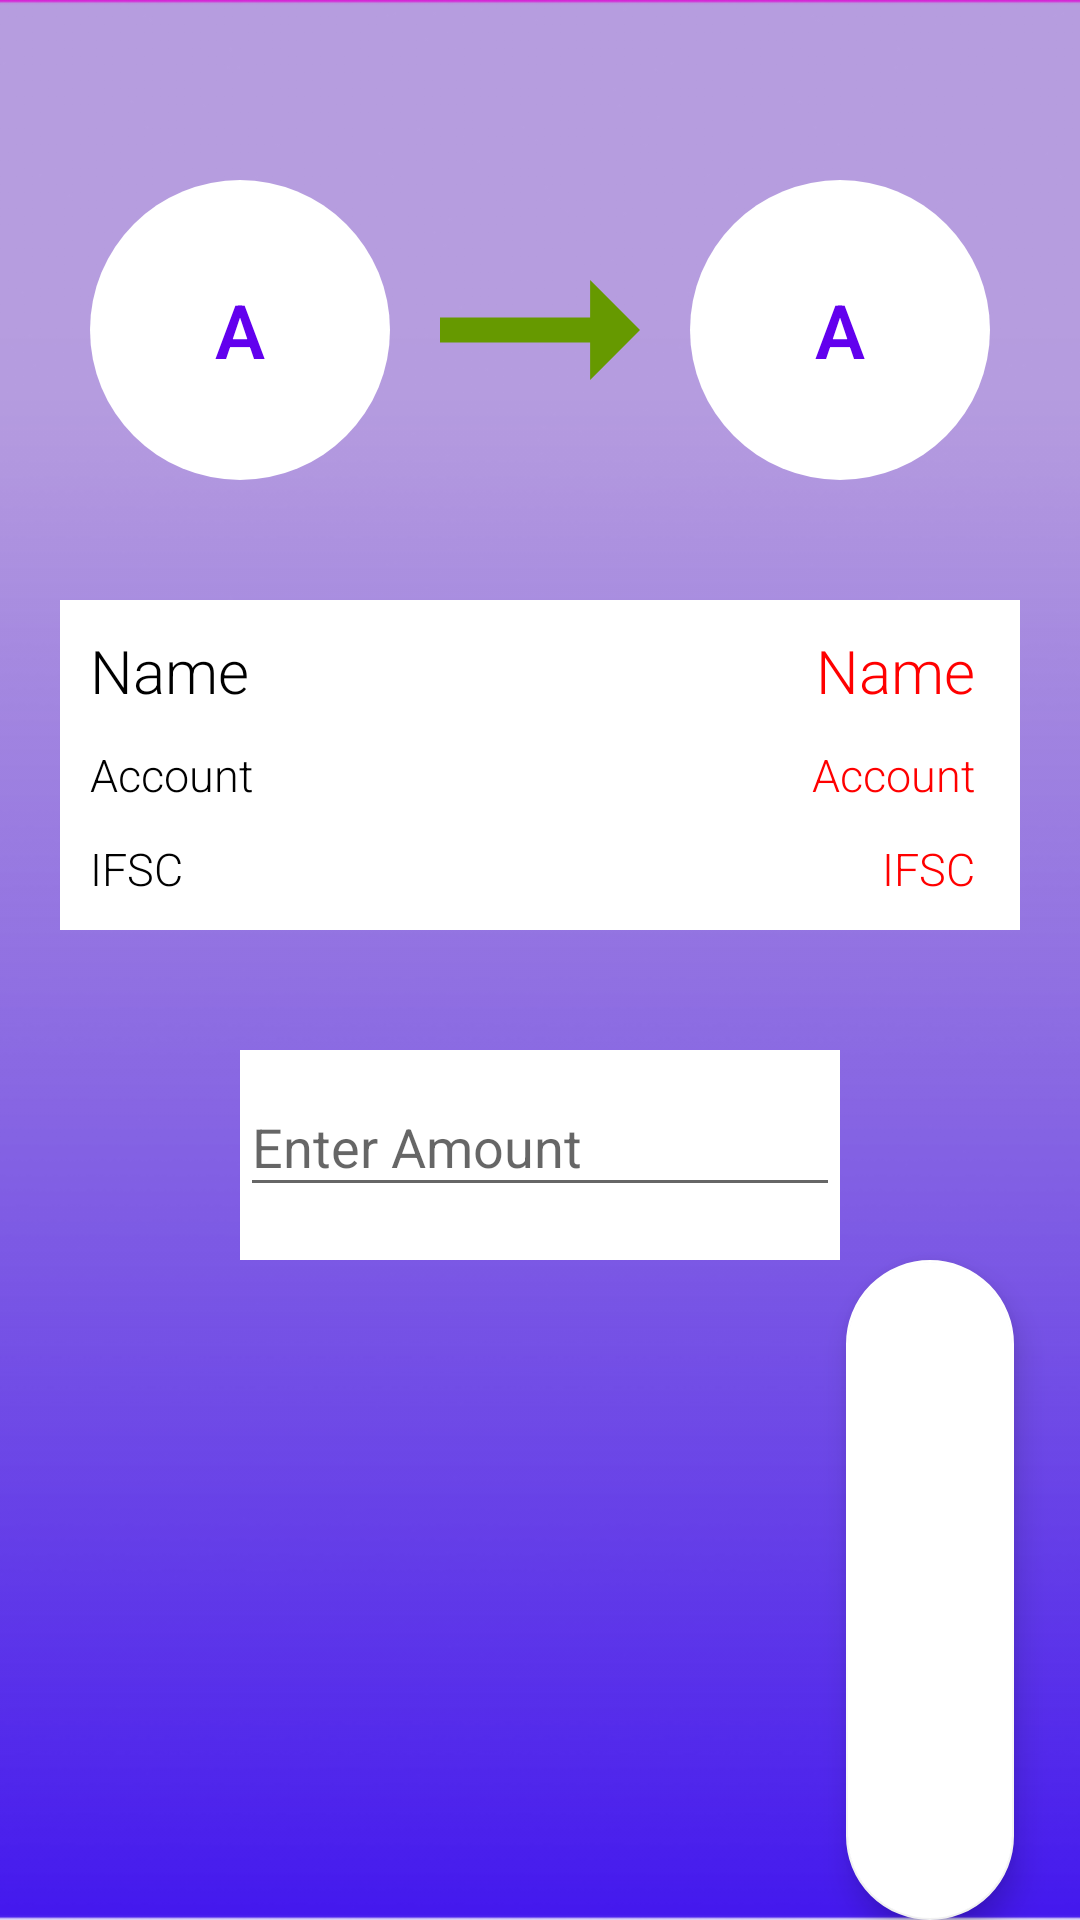

Where icons sit on this 1080 × 1920 app screen, as Rect(x1, y1, x2, y2):
arrow right: Rect(440, 280, 640, 380)
